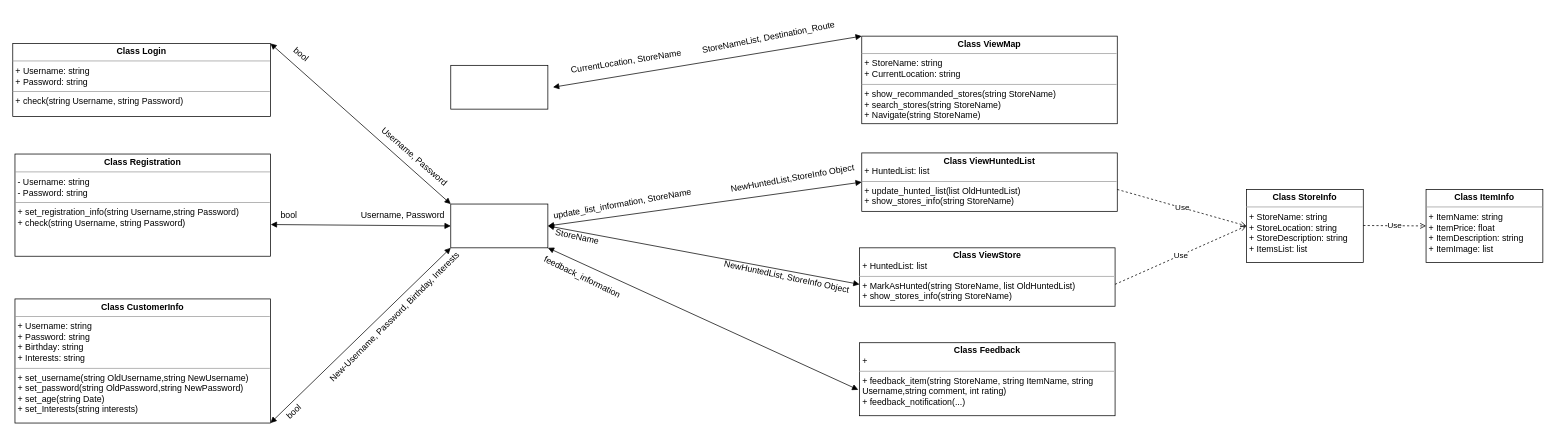
Some shapes in this 1556 by 445 pixel diagram are drawn without their labels. Each missing label, with the box of its shape:
Algorithm: (450, 65, 548, 109)
Database: (450, 203, 548, 248)
